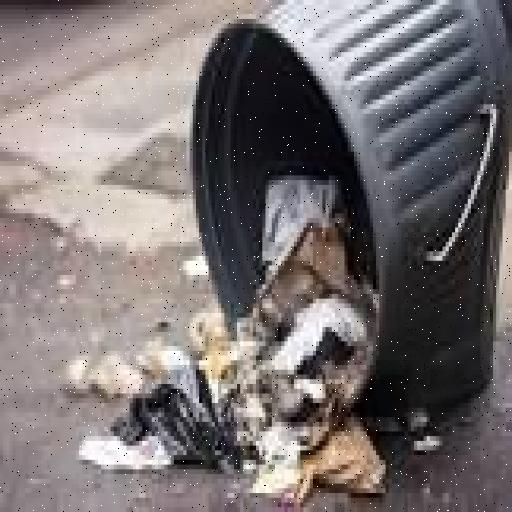poubelle_pleine: (147, 5, 512, 435)
